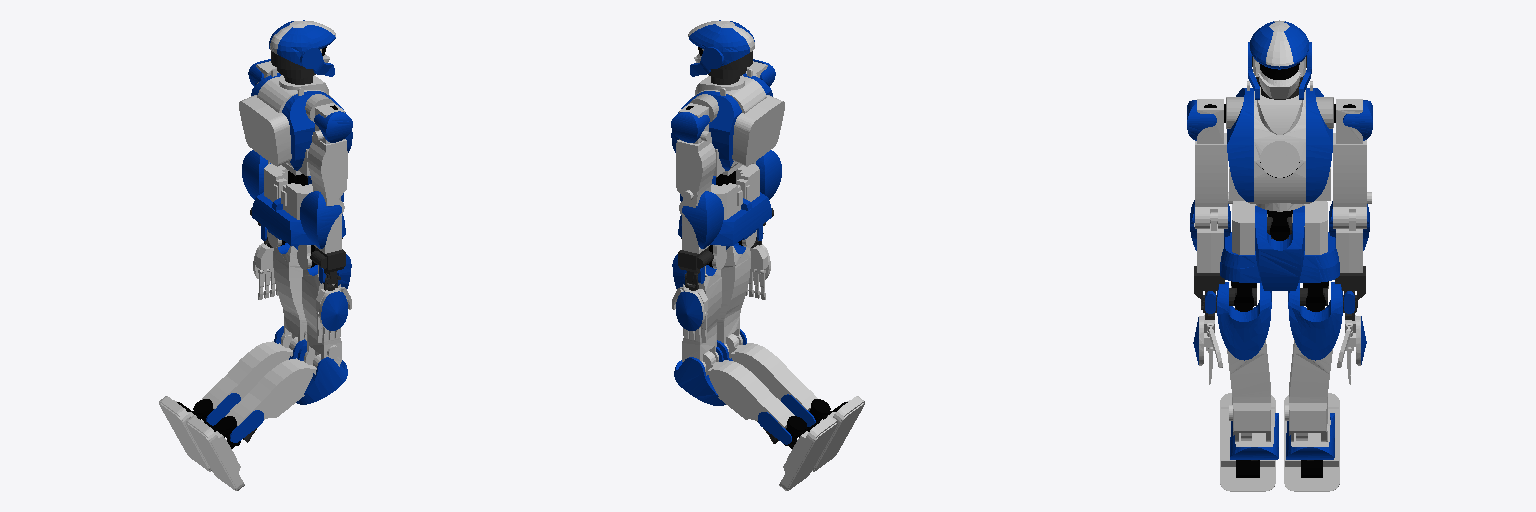
--- What the picture shows (computed from the rendered views, not written in the file) ---
Views: 3 orthographic renders of the robot side by side, from view 1: azimuth 30°, elevation 25°; view 2: azimuth 150°, elevation 25°; view 3: azimuth 270°, elevation 25°.
Robot: hrp4 — 66 links, 65 joints (34 revolute, 31 fixed); root link base_link; default pose: joints at zero except 2 at the middle of their limits (R_KNEE_P = 1.09, L_KNEE_P = 1.09).
Visible links, largest first — view 1: torso, R_KNEE_P_LINK, body, L_KNEE_P_LINK, NECK_P_LINK, L_HIP_P_LINK, R_SHOULDER_Y_LINK, R_HIP_P_LINK, R_ELBOW_P_LINK, r_ankle, l_ankle, R_SHOULDER_R_LINK (+4 smaller); view 2: torso, L_KNEE_P_LINK, body, R_KNEE_P_LINK, NECK_P_LINK, R_HIP_P_LINK, L_SHOULDER_Y_LINK, l_ankle, L_HIP_P_LINK, L_ELBOW_P_LINK, r_ankle, L_SHOULDER_R_LINK (+4 smaller); view 3: torso, body, L_HIP_P_LINK, R_HIP_P_LINK, NECK_P_LINK, L_SHOULDER_Y_LINK, R_SHOULDER_Y_LINK, r_ankle, l_ankle, R_ELBOW_P_LINK, L_ELBOW_P_LINK, R_SHOULDER_R_LINK (+10 smaller).
Boxes of the visible links, x1,y1,x2,y2 form: torso: (239,67,352,175); R_KNEE_P_LINK: (225,343,347,442); body: (252,164,345,245); L_KNEE_P_LINK: (202,326,306,425); NECK_P_LINK: (269,20,335,76); L_HIP_P_LINK: (273,243,306,347); R_SHOULDER_Y_LINK: (307,135,347,216); R_HIP_P_LINK: (302,254,351,366); R_ELBOW_P_LINK: (300,191,341,253); r_ankle: (186,415,244,490); l_ankle: (159,396,211,471); R_SHOULDER_R_LINK: (313,103,352,143); torso: (671,68,784,176); L_KNEE_P_LINK: (674,347,794,444); body: (678,164,771,245); R_KNEE_P_LINK: (717,329,817,426); NECK_P_LINK: (688,20,754,76); R_HIP_P_LINK: (717,243,750,351); L_SHOULDER_Y_LINK: (676,137,715,217); l_ankle: (779,415,837,490); L_HIP_P_LINK: (672,254,721,371); L_ELBOW_P_LINK: (682,191,723,253); r_ankle: (812,396,864,471); L_SHOULDER_R_LINK: (671,103,710,143); torso: (1226,81,1333,211); body: (1220,201,1339,290); L_HIP_P_LINK: (1285,282,1342,441); R_HIP_P_LINK: (1217,282,1271,441); NECK_P_LINK: (1248,20,1311,99); L_SHOULDER_Y_LINK: (1333,133,1371,228); R_SHOULDER_Y_LINK: (1195,133,1232,228); r_ankle: (1220,393,1275,491); l_ankle: (1284,393,1339,491); R_ELBOW_P_LINK: (1190,200,1230,272); L_ELBOW_P_LINK: (1329,201,1369,272); R_SHOULDER_R_LINK: (1187,99,1223,143).
Bounding box of the posed robot: 0.5198 × 0.456 × 1.39 m (x, y, z).
Meshes: 33 distinct files referenced, 54 mesh visuals loaded (33 Collada DAE).

robot.urdf — hrp4:
<?xml version="1.0" ?>
<!-- =================================================================================== -->
<!-- |    This document was autogenerated by xacro from [local-path]/devel-src/catkin_ws/mc_ws/src/hrp4/hrp4_description/urdf/hrp4_small.xacro | -->
<!-- |    EDITING THIS FILE BY HAND IS NOT RECOMMENDED                                 | -->
<!-- =================================================================================== -->
<!--
   hrp4 URDF model

   FIXME: fill missing data: sole, gripper and sensors
  -->
<robot name="hrp4" xmlns:xacro="http://ros.org/wiki/xacro">
  <link name="base_link"/>
  <link name="body">
    <inertial>
      <origin rpy="0 0 0" xyz="-0.0215609 0.00145914 0.14111505"/>
      <mass value="6.93472"/>
      <inertia ixx="0.05776087" ixy="7.331e-05" ixz="0.0014889" iyy="0.0285208" iyz="-0.00075717" izz="0.05527734"/>
    </inertial>
    <visual>
      <origin rpy="0 0 0" xyz="0 0 0"/>
      <geometry>
        <mesh filename="package://hrp4_description/meshes/WAIST_LINK.dae"/>
      </geometry>
    </visual>
    <collision>
      <origin rpy="0 0 0" xyz="0 0 0"/>
      <geometry>
        <mesh filename="package://hrp4_description/meshes/WAIST_LINK.dae"/>
      </geometry>
    </collision>
  </link>
  <link name="R_HIP_Y_LINK">
    <inertial>
      <origin rpy="0 0 0" xyz="-0.01667657 2e-08 0.04993135"/>
      <mass value="1.1356"/>
      <inertia ixx="0.00151524" ixy="-2.8e-07" ixz="-0.00048566" iyy="0.00231285" iyz="-0" izz="0.00149651"/>
    </inertial>
    <visual>
      <origin rpy="0 0 0" xyz="0 0 0"/>
      <geometry>
        <mesh filename="package://hrp4_description/meshes/HIP_Y.dae"/>
      </geometry>
    </visual>
    <collision>
      <origin rpy="0 0 0" xyz="0 0 0"/>
      <geometry>
        <mesh filename="package://hrp4_description/meshes/HIP_Y.dae"/>
      </geometry>
    </collision>
  </link>
  <link name="R_HIP_R_LINK">
    <inertial>
      <origin rpy="0 0 0" xyz="-0.00431692 0.00595121 -0.00052352"/>
      <mass value="0.58494148"/>
      <inertia ixx="0.00046475" ixy="-1.508e-05" ixz="-6.5e-07" iyy="0.00029804" iyz="2.39e-06" izz="0.00061763"/>
    </inertial>
    <visual>
      <origin rpy="0 0 0" xyz="0 0 0"/>
      <geometry>
        <mesh filename="package://hrp4_description/meshes/CHEST_P.dae"/>
      </geometry>
    </visual>
    <collision>
      <origin rpy="0 0 0" xyz="0 0 0"/>
      <geometry>
        <mesh filename="package://hrp4_description/meshes/CHEST_P.dae"/>
      </geometry>
    </collision>
  </link>
  <link name="R_HIP_P_LINK">
    <inertial>
      <origin rpy="0 0 0" xyz="0.00401404 0.01530275 -0.18851723"/>
      <mass value="2.0648"/>
      <inertia ixx="0.03160432" ixy="-3.38e-06" ixz="0.00063965" iyy="0.03070237" iyz="0.00133966" izz="0.00275655"/>
    </inertial>
    <visual>
      <origin rpy="0 0 0" xyz="0 0 0"/>
      <geometry>
        <mesh filename="package://hrp4_description/meshes/R_HIP_P.dae"/>
      </geometry>
    </visual>
    <collision>
      <origin rpy="0 0 0" xyz="0 0 0"/>
      <geometry>
        <mesh filename="package://hrp4_description/meshes/R_HIP_P.dae"/>
      </geometry>
    </collision>
  </link>
  <link name="R_KNEE_P_LINK">
    <inertial>
      <origin rpy="0 0 0" xyz="-0.01122115 -0.00133701 -0.15252868"/>
      <mass value="2.08123"/>
      <inertia ixx="0.01900442" ixy="-4.75e-06" ixz="-0.0014589" iyy="0.01944097" iyz="2.008e-05" izz="0.00189659"/>
    </inertial>
    <visual>
      <origin rpy="0 0 0" xyz="0 0 0"/>
      <geometry>
        <mesh filename="package://hrp4_description/meshes/R_KNEE_P.dae"/>
      </geometry>
    </visual>
    <collision>
      <origin rpy="0 0 0" xyz="0 0 0"/>
      <geometry>
        <mesh filename="package://hrp4_description/meshes/R_KNEE_P.dae"/>
      </geometry>
    </collision>
  </link>
  <link name="R_ANKLE_P_LINK">
    <inertial>
      <origin rpy="0 0 0" xyz="-0.00368911 -0.00015844 0.00129883"/>
      <mass value="0.26784726"/>
      <inertia ixx="8.094e-05" ixy="-1.6e-07" ixz="-1.33e-06" iyy="0.00015522" iyz="-7e-08" izz="0.00017313"/>
    </inertial>
    <visual>
      <origin rpy="0 0 0" xyz="0 0 0"/>
      <geometry>
        <mesh filename="package://hrp4_description/meshes/L_ANKLE_P.dae"/>
      </geometry>
    </visual>
    <collision>
      <origin rpy="0 0 0" xyz="0 0 0"/>
      <geometry>
        <mesh filename="package://hrp4_description/meshes/L_ANKLE_P.dae"/>
      </geometry>
    </collision>
  </link>
  <link name="R_ANKLE_R_LINK">
    <inertial>
      <origin rpy="0 0 0" xyz="-0.00340792 1e-08 -0.04591586"/>
      <mass value="0.72287828"/>
      <inertia ixx="0.00092215" ixy="0" ixz="0.00011963" iyy="0.00102289" iyz="0" izz="0.00089314"/>
    </inertial>
    <visual>
      <origin rpy="0 0 0" xyz="0 0 0"/>
      <geometry>
        <mesh filename="package://hrp4_description/meshes/R_ANKLE_R.dae"/>
      </geometry>
    </visual>
    <collision>
      <origin rpy="0 0 0" xyz="0 0 0"/>
      <geometry>
        <mesh filename="package://hrp4_description/meshes/R_ANKLE_R.dae"/>
      </geometry>
    </collision>
  </link>
  <link name="r_sole"/>
  <link name="L_HIP_Y_LINK">
    <inertial>
      <origin rpy="0 0 0" xyz="-0.01667657 2e-08 0.04993135"/>
      <mass value="1.1356"/>
      <inertia ixx="0.00151524" ixy="-2.8e-07" ixz="-0.00048566" iyy="0.00231285" iyz="-0" izz="0.00149651"/>
    </inertial>
    <visual>
      <origin rpy="0 0 0" xyz="0 0 0"/>
      <geometry>
        <mesh filename="package://hrp4_description/meshes/HIP_Y.dae"/>
      </geometry>
    </visual>
    <collision>
      <origin rpy="0 0 0" xyz="0 0 0"/>
      <geometry>
        <mesh filename="package://hrp4_description/meshes/HIP_Y.dae"/>
      </geometry>
    </collision>
  </link>
  <link name="L_HIP_R_LINK">
    <inertial>
      <origin rpy="0 0 0" xyz="-0.00431692 0.00595121 -0.00052352"/>
      <mass value="0.58494148"/>
      <inertia ixx="0.00046475" ixy="-1.508e-05" ixz="-6.5e-07" iyy="0.00029804" iyz="2.39e-06" izz="0.00061763"/>
    </inertial>
    <visual>
      <origin rpy="0 0 0" xyz="0 0 0"/>
      <geometry>
        <mesh filename="package://hrp4_description/meshes/CHEST_P.dae"/>
      </geometry>
    </visual>
    <collision>
      <origin rpy="0 0 0" xyz="0 0 0"/>
      <geometry>
        <mesh filename="package://hrp4_description/meshes/CHEST_P.dae"/>
      </geometry>
    </collision>
  </link>
  <link name="L_HIP_P_LINK">
    <inertial>
      <origin rpy="0 0 0" xyz="0.00400906 -0.00541624 -0.18827632"/>
      <mass value="2.06366"/>
      <inertia ixx="0.03174381" ixy="9.784e-05" ixz="0.00063909" iyy="0.03068623" iyz="-0.00254187" izz="0.00291548"/>
    </inertial>
    <visual>
      <origin rpy="0 0 0" xyz="0 0 0"/>
      <geometry>
        <mesh filename="package://hrp4_description/meshes/L_HIP_P.dae"/>
      </geometry>
    </visual>
    <collision>
      <origin rpy="0 0 0" xyz="0 0 0"/>
      <geometry>
        <mesh filename="package://hrp4_description/meshes/L_HIP_P.dae"/>
      </geometry>
    </collision>
  </link>
  <link name="L_KNEE_P_LINK">
    <inertial>
      <origin rpy="0 0 0" xyz="-0.01122115 -0.00133701 -0.15252868"/>
      <mass value="2.08123"/>
      <inertia ixx="0.01900442" ixy="-4.75e-06" ixz="-0.0014589" iyy="0.01944097" iyz="2.008e-05" izz="0.00189659"/>
    </inertial>
    <visual>
      <origin rpy="0 0 0" xyz="0 0 0"/>
      <geometry>
        <mesh filename="package://hrp4_description/meshes/L_KNEE_P.dae"/>
      </geometry>
    </visual>
    <collision>
      <origin rpy="0 0 0" xyz="0 0 0"/>
      <geometry>
        <mesh filename="package://hrp4_description/meshes/L_KNEE_P.dae"/>
      </geometry>
    </collision>
  </link>
  <link name="L_ANKLE_P_LINK">
    <inertial>
      <origin rpy="0 0 0" xyz="-0.00368911 -0.00015844 0.00129883"/>
      <mass value="0.26784726"/>
      <inertia ixx="8.094e-05" ixy="-1.6e-07" ixz="-1.33e-06" iyy="0.00015522" iyz="-7e-08" izz="0.00017313"/>
    </inertial>
    <visual>
      <origin rpy="0 0 0" xyz="0 0 0"/>
      <geometry>
        <mesh filename="package://hrp4_description/meshes/L_ANKLE_P.dae"/>
      </geometry>
    </visual>
    <collision>
      <origin rpy="0 0 0" xyz="0 0 0"/>
      <geometry>
        <mesh filename="package://hrp4_description/meshes/L_ANKLE_P.dae"/>
      </geometry>
    </collision>
  </link>
  <link name="L_ANKLE_R_LINK">
    <inertial>
      <origin rpy="0 0 0" xyz="-0.00340792 0 -0.04591586"/>
      <mass value="0.72287828"/>
      <inertia ixx="0.00092215" ixy="-0" ixz="0.00011963" iyy="0.00102289" iyz="-0" izz="0.00089314"/>
    </inertial>
    <visual>
      <origin rpy="0 0 0" xyz="0 0 0"/>
      <geometry>
        <mesh filename="package://hrp4_description/meshes/L_ANKLE_R.dae"/>
      </geometry>
    </visual>
    <collision>
      <origin rpy="0 0 0" xyz="0 0 0"/>
      <geometry>
        <mesh filename="package://hrp4_description/meshes/L_ANKLE_R.dae"/>
      </geometry>
    </collision>
  </link>
  <link name="l_sole"/>
  <link name="CHEST_P_LINK">
    <inertial>
      <origin rpy="0 0 0" xyz="-0.00442006 0.00280574 0.03664874"/>
      <mass value="1.24072"/>
      <inertia ixx="0.00250228" ixy="-1.572e-05" ixz="-1.986e-05" iyy="0.00266086" iyz="0.00013179" izz="0.0015461"/>
    </inertial>
    <visual>
      <origin rpy="0 0 0" xyz="0 0 0"/>
      <geometry>
        <mesh filename="package://hrp4_description/meshes/CHEST_P.dae"/>
      </geometry>
    </visual>
    <visual>
      <origin rpy="0 0 0" xyz="0 0 0"/>
      <geometry>
        <mesh filename="package://hrp4_description/meshes/CHEST_R.dae"/>
      </geometry>
    </visual>
    <collision>
      <origin rpy="0 0 0" xyz="0 0 0"/>
      <geometry>
        <mesh filename="package://hrp4_description/meshes/CHEST_P.dae"/>
      </geometry>
    </collision>
    <collision>
      <origin rpy="0 0 0" xyz="0 0 0"/>
      <geometry>
        <mesh filename="package://hrp4_description/meshes/CHEST_P.dae"/>
      </geometry>
    </collision>
  </link>
  <link name="torso">
    <inertial>
      <origin rpy="0 0 0" xyz="-0.02868847 -0.00245957 0.20400698"/>
      <mass value="6.67348"/>
      <inertia ixx="0.06656275" ixy="-9.681e-05" ixz="0.00599103" iyy="0.05508979" iyz="-0.00017557" izz="0.04262738"/>
    </inertial>
    <visual>
      <origin rpy="0 0 0" xyz="0 0 0"/>
      <geometry>
        <mesh filename="package://hrp4_description/meshes/CHEST_Y.dae"/>
      </geometry>
    </visual>
    <collision>
      <origin rpy="0 0 0" xyz="0 0 0"/>
      <geometry>
        <mesh filename="package://hrp4_description/meshes/CHEST_Y.dae"/>
      </geometry>
    </collision>
  </link>
  <link name="NECK_Y_LINK">
    <inertial>
      <origin rpy="0 0 0" xyz="-0.01142441 0.00157484 -0.02134892"/>
      <mass value="0.41214752"/>
      <inertia ixx="0.00061014" ixy="4.35e-06" ixz="7.329e-05" iyy="0.00068918" iyz="-1.384e-05" izz="0.00040587"/>
    </inertial>
    <visual>
      <origin rpy="0 0 0" xyz="0 0 0"/>
      <geometry>
        <mesh filename="package://hrp4_description/meshes/NECK_Y.dae"/>
      </geometry>
    </visual>
    <collision>
      <origin rpy="0 0 0" xyz="0 0 0"/>
      <geometry>
        <mesh filename="package://hrp4_description/meshes/NECK_Y.dae"/>
      </geometry>
    </collision>
  </link>
  <link name="NECK_P_LINK">
    <inertial>
      <origin rpy="0 0 0" xyz="0.00532833 -0.00053047 0.0176936"/>
      <mass value="0.22297511"/>
      <inertia ixx="0.00069884" ixy="-7e-07" ixz="3.33e-05" iyy="0.00093286" iyz="-1.51e-06" izz="0.00100342"/>
    </inertial>
    <visual>
      <origin rpy="0 0 0" xyz="0 0 0"/>
      <geometry>
        <mesh filename="package://hrp4_description/meshes/NECK_P.dae"/>
      </geometry>
    </visual>
    <collision>
      <origin rpy="0 0 0" xyz="0 0 0"/>
      <geometry>
        <mesh filename="package://hrp4_description/meshes/NECK_P.dae"/>
      </geometry>
    </collision>
  </link>
  <link name="R_SHOULDER_P_LINK">
    <inertial>
      <origin rpy="0 0 0" xyz="0.00141599 0.04257567 0.00031503"/>
      <mass value="0.42049079"/>
      <inertia ixx="0.00044203" ixy="-4.93e-06" ixz="-6.1e-07" iyy="0.00014181" iyz="-3.34e-06" izz="0.00044502"/>
    </inertial>
    <visual>
      <origin rpy="0 0 0" xyz="0 0 0"/>
      <geometry>
        <mesh filename="package://hrp4_description/meshes/R_SHOULDER_P.dae"/>
      </geometry>
    </visual>
    <collision>
      <origin rpy="0 0 0" xyz="0 0 0"/>
      <geometry>
        <mesh filename="package://hrp4_description/meshes/R_SHOULDER_P.dae"/>
      </geometry>
    </collision>
  </link>
  <link name="R_SHOULDER_R_LINK">
    <inertial>
      <origin rpy="0 0 0" xyz="0.00019752 -0.00272557 -0.04191141"/>
      <mass value="0.52070922"/>
      <inertia ixx="0.00062647" ixy="-7.3e-06" ixz="-6.476e-05" iyy="0.00071812" iyz="1.818e-05" izz="0.00029856"/>
    </inertial>
    <visual>
      <origin rpy="0 0 0" xyz="0 0 0"/>
      <geometry>
        <mesh filename="package://hrp4_description/meshes/R_SHOULDER_R.dae"/>
      </geometry>
    </visual>
    <collision>
      <origin rpy="0 0 0" xyz="0 0 0"/>
      <geometry>
        <mesh filename="package://hrp4_description/meshes/R_SHOULDER_R.dae"/>
      </geometry>
    </collision>
  </link>
  <link name="R_SHOULDER_Y_LINK">
    <inertial>
      <origin rpy="0 0 0" xyz="-0.00273859 -0.00036268 -0.17426645"/>
      <mass value="1.0874"/>
      <inertia ixx="0.00553694" ixy="1.18e-05" ixz="-4.295e-05" iyy="0.00556222" iyz="-9.379e-05" izz="0.00071841"/>
    </inertial>
    <visual>
      <origin rpy="0 0 0" xyz="0 0 0"/>
      <geometry>
        <mesh filename="package://hrp4_description/meshes/SHOULDER_Y.dae"/>
      </geometry>
    </visual>
    <collision>
      <origin rpy="0 0 0" xyz="0 0 0"/>
      <geometry>
        <mesh filename="package://hrp4_description/meshes/SHOULDER_Y.dae"/>
      </geometry>
    </collision>
  </link>
  <link name="R_ELBOW_P_LINK">
    <inertial>
      <origin rpy="0 0 0" xyz="-0.01222096 0.00049299 -0.07271909"/>
      <mass value="0.6594031"/>
      <inertia ixx="0.00121955" ixy="3.9e-06" ixz="4.22e-05" iyy="0.00135563" iyz="-1.497e-05" izz="0.00047041"/>
    </inertial>
    <visual>
      <origin rpy="0 0 0" xyz="0 0 0"/>
      <geometry>
        <mesh filename="package://hrp4_description/meshes/ELBOW_P.dae"/>
      </geometry>
    </visual>
    <collision>
      <origin rpy="0 0 0" xyz="0 0 0"/>
      <geometry>
        <mesh filename="package://hrp4_description/meshes/ELBOW_P.dae"/>
      </geometry>
    </collision>
  </link>
  <link name="R_WRIST_Y_LINK">
    <inertial>
      <origin rpy="0 0 0" xyz="-0.00749481 9.419e-05 -0.17044123"/>
      <mass value="0.38384092"/>
      <inertia ixx="0.00027044" ixy="-9.74e-06" ixz="1.069e-05" iyy="0.00027334" iyz="1.745e-05" izz="0.00022347"/>
    </inertial>
    <visual>
      <origin rpy="0 0 0" xyz="0 0 0"/>
      <geometry>
        <mesh filename="package://hrp4_description/meshes/R_WRIST_Y.dae"/>
      </geometry>
    </visual>
    <collision>
      <origin rpy="0 0 0" xyz="0 0 0"/>
      <geometry>
        <mesh filename="package://hrp4_description/meshes/R_WRIST_Y.dae"/>
      </geometry>
    </collision>
  </link>
  <link name="R_WRIST_P_LINK">
    <inertial>
      <origin rpy="0 0 0" xyz="0.00255098 0.00162183 0.01074678"/>
      <mass value="0.25425855"/>
      <inertia ixx="8.763e-05" ixy="1.53e-06" ixz="-3.48e-06" iyy="9.159e-05" iyz="4.48e-06" izz="5.571e-05"/>
    </inertial>
    <visual>
      <origin rpy="0 0 0" xyz="0 0 0"/>
      <geometry>
        <mesh filename="package://hrp4_description/meshes/WRIST_P.dae"/>
      </geometry>
    </visual>
    <collision>
      <origin rpy="0 0 0" xyz="0 0 0"/>
      <geometry>
        <mesh filename="package://hrp4_description/meshes/WRIST_P.dae"/>
      </geometry>
    </collision>
  </link>
  <link name="r_wrist">
    <inertial>
      <origin rpy="0 0 0" xyz="-0.00357307 -0.00756083 -0.07562434"/>
      <mass value="0.38811052"/>
      <inertia ixx="0.00041744" ixy="-2.58e-06" ixz="-3.079e-05" iyy="0.00053272" iyz="-4.178e-05" izz="0.00022506"/>
    </inertial>
    <visual>
      <origin rpy="0 0 0" xyz="0 0 0"/>
      <geometry>
        <mesh filename="package://hrp4_description/meshes/R_WRIST_R.dae"/>
      </geometry>
    </visual>
    <collision>
      <origin rpy="0 0 0" xyz="0 0 0"/>
      <geometry>
        <mesh filename="package://hrp4_description/meshes/R_WRIST_R.dae"/>
      </geometry>
    </collision>
  </link>
  <link name="R_HAND_J0_LINK">
    <inertial>
      <origin rpy="0 0 0" xyz="0.03905018 0.0103447 -0.02583122"/>
      <mass value="0.02982352"/>
      <inertia ixx="1.307e-05" ixy="-6.2e-06" ixz="1.249e-05" iyy="2.885e-05" iyz="4.36e-06" izz="2.119e-05"/>
    </inertial>
    <visual>
      <origin rpy="0 0 0" xyz="0 0 0"/>
      <geometry>
        <mesh filename="package://hrp4_description/meshes/R_THUMB.dae"/>
      </geometry>
    </visual>
    <collision>
      <origin rpy="0 0 0" xyz="0 0 0"/>
      <geometry>
        <mesh filename="package://hrp4_description/meshes/R_THUMB.dae"/>
      </geometry>
    </collision>
  </link>
  <link name="R_HAND_J1_LINK">
    <inertial>
      <origin rpy="0 0 0" xyz="-0.00520681 -8.854e-05 -0.01902284"/>
      <mass value="0.07696483"/>
      <inertia ixx="2.17e-05" ixy="-3e-08" ixz="-2.2e-07" iyy="5.741e-05" iyz="1e-07" izz="3.728e-05"/>
    </inertial>
    <visual>
      <origin rpy="0 0 0" xyz="0 0 0"/>
      <geometry>
        <mesh filename="package://hrp4_description/meshes/R_F1.dae"/>
      </geometry>
    </visual>
    <collision>
      <origin rpy="0 0 0" xyz="0 0 0"/>
      <geometry>
        <mesh filename="package://hrp4_description/meshes/R_F1.dae"/>
      </geometry>
    </collision>
  </link>
  <link name="R_F22_LINK">
    <inertial>
      <origin rpy="0 0 0" xyz="-0.00031853 0.00034526 -0.01168186"/>
      <mass value="0.00446884"/>
      <inertia ixx="3.2e-07" ixy="-0" ixz="-0" iyy="3.4e-07" iyz="-0" izz="9e-08"/>
    </inertial>
    <visual>
      <origin rpy="0 0 0" xyz="0 0 0"/>
      <geometry>
        <mesh filename="package://hrp4_description/meshes/F2.dae"/>
      </geometry>
    </visual>
    <collision>
      <origin rpy="0 0 0" xyz="0 0 0"/>
      <geometry>
        <mesh filename="package://hrp4_description/meshes/F2.dae"/>
      </geometry>
    </collision>
  </link>
  <link name="R_F23_LINK">
    <inertial>
      <origin rpy="0 0 0" xyz="-0.00035576 -0.00103228 -0.00714888"/>
      <mass value="0.0028745"/>
      <inertia ixx="1.6e-07" ixy="0" ixz="1e-08" iyy="2.1e-07" iyz="-2e-08" izz="7e-08"/>
    </inertial>
    <visual>
      <origin rpy="0 0 0" xyz="0 0 0"/>
      <geometry>
        <mesh filename="package://hrp4_description/meshes/F3.dae"/>
      </geometry>
    </visual>
    <collision>
      <origin rpy="0 0 0" xyz="0 0 0"/>
      <geometry>
        <mesh filename="package://hrp4_description/meshes/F3.dae"/>
      </geometry>
    </collision>
  </link>
  <link name="R_F32_LINK">
    <inertial>
      <origin rpy="0 0 0" xyz="-0.00031853 0.00034526 -0.01168186"/>
      <mass value="0.00446884"/>
      <inertia ixx="3.2e-07" ixy="-0" ixz="-0" iyy="3.4e-07" iyz="-0" izz="9e-08"/>
    </inertial>
    <visual>
      <origin rpy="0 0 0" xyz="0 0 0"/>
      <geometry>
        <mesh filename="package://hrp4_description/meshes/F2.dae"/>
      </geometry>
    </visual>
    <collision>
      <origin rpy="0 0 0" xyz="0 0 0"/>
      <geometry>
        <mesh filename="package://hrp4_description/meshes/F2.dae"/>
      </geometry>
    </collision>
  </link>
  <link name="R_F33_LINK">
    <inertial>
      <origin rpy="0 0 0" xyz="-0.00035576 -0.00103228 -0.00714888"/>
      <mass value="0.0028745"/>
      <inertia ixx="1.6e-07" ixy="0" ixz="1e-08" iyy="2.1e-07" iyz="-2e-08" izz="7e-08"/>
    </inertial>
    <visual>
      <origin rpy="0 0 0" xyz="0 0 0"/>
      <geometry>
        <mesh filename="package://hrp4_description/meshes/F3.dae"/>
      </geometry>
    </visual>
    <collision>
      <origin rpy="0 0 0" xyz="0 0 0"/>
      <geometry>
        <mesh filename="package://hrp4_description/meshes/F3.dae"/>
      </geometry>
    </collision>
  </link>
  <link name="R_F42_LINK">
    <inertial>
      <origin rpy="0 0 0" xyz="-0.00031853 0.00034526 -0.01168186"/>
      <mass value="0.00446884"/>
      <inertia ixx="3.2e-07" ixy="-0" ixz="-0" iyy="3.4e-07" iyz="-0" izz="9e-08"/>
    </inertial>
    <visual>
      <origin rpy="0 0 0" xyz="0 0 0"/>
      <geometry>
        <mesh filename="package://hrp4_description/meshes/F2.dae"/>
      </geometry>
    </visual>
    <collision>
      <origin rpy="0 0 0" xyz="0 0 0"/>
      <geometry>
        <mesh filename="package://hrp4_description/meshes/F2.dae"/>
      </geometry>
    </collision>
  </link>
  <link name="R_F43_LINK">
    <inertial>
      <origin rpy="0 0 0" xyz="-0.00035576 -0.00103228 -0.00714888"/>
      <mass value="0.0028745"/>
      <inertia ixx="1.6e-07" ixy="0" ixz="1e-08" iyy="2.1e-07" iyz="-2e-08" izz="7e-08"/>
    </inertial>
    <visual>
      <origin rpy="0 0 0" xyz="0 0 0"/>
      <geometry>
        <mesh filename="package://hrp4_description/meshes/F3.dae"/>
      </geometry>
    </visual>
    <collision>
      <origin rpy="0 0 0" xyz="0 0 0"/>
      <geometry>
        <mesh filename="package://hrp4_description/meshes/F3.dae"/>
      </geometry>
    </collision>
  </link>
  <link name="R_F52_LINK">
    <inertial>
      <origin rpy="0 0 0" xyz="-0.00031853 0.00034526 -0.01168186"/>
      <mass value="0.00446884"/>
      <inertia ixx="3.2e-07" ixy="-0" ixz="-0" iyy="3.4e-07" iyz="-0" izz="9e-08"/>
    </inertial>
    <visual>
      <origin rpy="0 0 0" xyz="0 0 0"/>
      <geometry>
        <mesh filename="package://hrp4_description/meshes/F2.dae"/>
      </geometry>
    </visual>
    <collision>
      <origin rpy="0 0 0" xyz="0 0 0"/>
      <geometry>
        <mesh filename="package://hrp4_description/meshes/F2.dae"/>
      </geometry>
    </collision>
  </link>
  <link name="R_F53_LINK">
    <inertial>
      <origin rpy="0 0 0" xyz="-0.00035576 -0.00103228 -0.00714888"/>
      <mass value="0.0028745"/>
      <inertia ixx="1.6e-07" ixy="0" ixz="1e-08" iyy="2.1e-07" iyz="-2e-08" izz="7e-08"/>
    </inertial>
    <visual>
      <origin rpy="0 0 0" xyz="0 0 0"/>
      <geometry>
        <mesh filename="package://hrp4_description/meshes/F3.dae"/>
      </geometry>
    </visual>
    <collision>
      <origin rpy="0 0 0" xyz="0 0 0"/>
      <geometry>
        <mesh filename="package://hrp4_description/meshes/F3.dae"/>
      </geometry>
    </collision>
  </link>
  <link name="L_SHOULDER_P_LINK">
    <inertial>
      <origin rpy="0 0 0" xyz="0.00141599 -0.04257567 -0.00031503"/>
      <mass value="0.42049079"/>
      <inertia ixx="0.00044203" ixy="4.93e-06" ixz="6.1e-07" iyy="0.00014181" iyz="-3.34e-06" izz="0.00044502"/>
    </inertial>
    <visual>
      <origin rpy="0 0 0" xyz="0 0 0"/>
      <geometry>
        <mesh filename="package://hrp4_description/meshes/L_SHOULDER_P.dae"/>
      </geometry>
    </visual>
    <collision>
      <origin rpy="0 0 0" xyz="0 0 0"/>
      <geometry>
        <mesh filename="package://hrp4_description/meshes/L_SHOULDER_P.dae"/>
      </geometry>
    </collision>
  </link>
  <link name="L_SHOULDER_R_LINK">
    <inertial>
      <origin rpy="0 0 0" xyz="0.00019752 -8.916e-05 -0.04191141"/>
      <mass value="0.52070922"/>
      <inertia ixx="0.00063033" ixy="-6.01e-06" ixz="-6.476e-05" iyy="0.00071812" iyz="-2.895e-05" izz="0.00030242"/>
    </inertial>
    <visual>
      <origin rpy="0 0 0" xyz="0 0 0"/>
      <geometry>
        <mesh filename="package://hrp4_description/meshes/L_SHOULDER_R.dae"/>
      </geometry>
    </visual>
    <collision>
      <origin rpy="0 0 0" xyz="0 0 0"/>
      <geometry>
        <mesh filename="package://hrp4_description/meshes/L_SHOULDER_R.dae"/>
      </geometry>
    </collision>
  </link>
  <link name="L_SHOULDER_Y_LINK">
    <inertial>
      <origin rpy="0 0 0" xyz="-0.00273859 -0.00036268 -0.17426645"/>
      <mass value="1.0874"/>
      <inertia ixx="0.00553694" ixy="1.18e-05" ixz="-4.295e-05" iyy="0.00556222" iyz="-9.379e-05" izz="0.00071841"/>
    </inertial>
    <visual>
      <origin rpy="0 0 0" xyz="0 0 0"/>
      <geometry>
        <mesh filename="package://hrp4_description/meshes/SHOULDER_Y.dae"/>
      </geometry>
    </visual>
    <collision>
      <origin rpy="0 0 0" xyz="0 0 0"/>
      <geometry>
        <mesh filename="package://hrp4_description/meshes/SHOULDER_Y.dae"/>
      </geometry>
    </collision>
  </link>
  <link name="L_ELBOW_P_LINK">
    <inertial>
      <origin rpy="0 0 0" xyz="-0.01222096 0.00049299 -0.07271909"/>
      <mass value="0.6594031"/>
      <inertia ixx="0.00121955" ixy="3.9e-06" ixz="4.22e-05" iyy="0.00135563" iyz="-1.497e-05" izz="0.00047041"/>
    </inertial>
    <visual>
      <origin rpy="0 0 0" xyz="0 0 0"/>
      <geometry>
        <mesh filename="package://hrp4_description/meshes/ELBOW_P.dae"/>
      </geometry>
    </visual>
    <collision>
      <origin rpy="0 0 0" xyz="0 0 0"/>
      <geometry>
        <mesh filename="package://hrp4_description/meshes/ELBOW_P.dae"/>
      </geometry>
    </collision>
  </link>
  <link name="L_WRIST_Y_LINK">
    <inertial>
      <origin rpy="0 0 0" xyz="-0.00749574 -9.418e-05 -0.17044123"/>
      <mass value="0.38384092"/>
      <inertia ixx="0.00027044" ixy="9.76e-06" ixz="1.07e-05" iyy="0.00027334" iyz="-1.745e-05" izz="0.00022346"/>
    </inertial>
    <visual>
      <origin rpy="0 0 0" xyz="0 0 0"/>
      <geometry>
        <mesh filename="package://hrp4_description/meshes/L_WRIST_Y.dae"/>
      </geometry>
    </visual>
    <collision>
      <origin rpy="0 0 0" xyz="0 0 0"/>
      <geometry>
        <mesh filename="package://hrp4_description/meshes/L_WRIST_Y.dae"/>
      </geometry>
    </collision>
  </link>
  <link name="L_WRIST_P_LINK">
    <inertial>
      <origin rpy="0 0 0" xyz="-0.00255098 -0.00162183 0.01074678"/>
      <mass value="0.25425855"/>
      <inertia ixx="8.763e-05" ixy="1.53e-06" ixz="3.48e-06" iyy="9.159e-05" iyz="-4.48e-06" izz="5.571e-05"/>
    </inertial>
    <visual>
      <origin rpy="0 0 0" xyz="0 0 0"/>
      <geometry>
        <mesh filename="package://hrp4_description/meshes/WRIST_P.dae"/>
      </geometry>
    </visual>
    <collision>
      <origin rpy="0 0 0" xyz="0 0 0"/>
      <geometry>
        <mesh filename="package://hrp4_description/meshes/WRIST_P.dae"/>
      </geometry>
    </collision>
  </link>
  <link name="l_wrist">
    <inertial>
      <origin rpy="0 0 0" xyz="-0.00241915 0.00756006 -0.07562466"/>
      <mass value="0.38811052"/>
      <inertia ixx="0.00041745" ixy="4.71e-06" ixz="-6.41e-05" iyy="0.00053559" iyz="4.177e-05" izz="0.00022792"/>
    </inertial>
    <visual>
      <origin rpy="0 0 0" xyz="0 0 0"/>
      <geometry>
        <mesh filename="package://hrp4_description/meshes/L_WRIST_R.dae"/>
      </geometry>
    </visual>
    <collision>
      <origin rpy="0 0 0" xyz="0 0 0"/>
      <geometry>
        <mesh filename="package://hrp4_description/meshes/L_WRIST_R.dae"/>
      </geometry>
    </collision>
  </link>
  <link name="L_HAND_J0_LINK">
    <inertial>
      <origin rpy="0 0 0" xyz="0.03905018 -0.0103447 -0.02583122"/>
      <mass value="0.02982352"/>
      <inertia ixx="1.307e-05" ixy="6.2e-06" ixz="1.249e-05" iyy="2.885e-05" iyz="-4.36e-06" izz="2.119e-05"/>
    </inertial>
    <visual>
      <origin rpy="0 0 0" xyz="0 0 0"/>
      <geometry>
        <mesh filename="package://hrp4_description/meshes/L_THUMB.dae"/>
      </geometry>
    </visual>
    <collision>
      <origin rpy="0 0 0" xyz="0 0 0"/>
      <geometry>
        <mesh filename="package://hrp4_description/meshes/L_THUMB.dae"/>
      </geometry>
    </collision>
  </link>
  <link name="L_HAND_J1_LINK">
    <inertial>
      <origin rpy="0 0 0" xyz="-0.00479332 8.854e-05 -0.01902284"/>
      <mass value="0.07696483"/>
      <inertia ixx="2.17e-05" ixy="-3e-08" ixz="2.3e-07" iyy="5.741e-05" iyz="-1e-07" izz="3.728e-05"/>
    </inertial>
    <visual>
      <origin rpy="0 0 0" xyz="0 0 0"/>
      <geometry>
        <mesh filename="package://hrp4_description/meshes/L_F1.dae"/>
      </geometry>
    </visual>
    <collision>
      <origin rpy="0 0 0" xyz="0 0 0"/>
      <geometry>
        <mesh filename="package://hrp4_description/meshes/L_F1.dae"/>
      </geometry>
    </collision>
  </link>
  <link name="L_F22_LINK">
    <inertial>
      <origin rpy="0 0 0" xyz="0.00031853 -0.00034526 -0.01168186"/>
      <mass value="0.00446884"/>
      <inertia ixx="3.2e-07" ixy="-0" ixz="0" iyy="3.4e-07" iyz="0" izz="9e-08"/>
    </inertial>
    <visual>
      <origin rpy="0 0 0" xyz="0 0 0"/>
      <geometry>
        <mesh filename="package://hrp4_description/meshes/F2.dae"/>
      </geometry>
    </visual>
    <collision>
      <origin rpy="0 0 0" xyz="0 0 0"/>
      <geometry>
        <mesh filename="package://hrp4_description/meshes/F2.dae"/>
      </geometry>
    </collision>
  </link>
  <link name="L_F23_LINK">
    <inertial>
      <origin rpy="0 0 0" xyz="0.00035576 0.00103228 -0.00714888"/>
      <mass value="0.0028745"/>
      <inertia ixx="1.6e-07" ixy="0" ixz="-1e-08" iyy="2.1e-07" iyz="2e-08" izz="7e-08"/>
    </inertial>
    <visual>
      <origin rpy="0 0 0" xyz="0 0 0"/>
      <geometry>
        <mesh filename="package://hrp4_description/meshes/F3.dae"/>
      </geometry>
    </visual>
    <collision>
      <origin rpy="0 0 0" xyz="0 0 0"/>
      <geometry>
        <mesh filename="package://hrp4_description/meshes/F3.dae"/>
      </geometry>
    </collision>
  </link>
  <link name="L_F32_LINK">
    <inertial>
      <origin rpy="0 0 0" xyz="0.00031853 -0.00034526 -0.01168186"/>
      <mass value="0.00446884"/>
      <inertia ixx="3.2e-07" ixy="-0" ixz="0" iyy="3.4e-07" iyz="0" izz="9e-08"/>
    </inertial>
    <visual>
      <origin rpy="0 0 0" xyz="0 0 0"/>
      <geometry>
        <mesh filename="package://hrp4_description/meshes/F2.dae"/>
      </geometry>
    </visual>
    <collision>
      <origin rpy="0 0 0" xyz="0 0 0"/>
      <geometry>
        <mesh filename="package://hrp4_description/meshes/F2.dae"/>
      </geometry>
    </collision>
  </link>
  <link name="L_F33_LINK">
    <inertial>
      <origin rpy="0 0 0" xyz="0.00035576 0.00103228 -0.00714888"/>
      <mass value="0.0028745"/>
      <inertia ixx="1.6e-07" ixy="0" ixz="-1e-08" iyy="2.1e-07" iyz="2e-08" izz="7e-08"/>
    </inertial>
    <visual>
      <origin rpy="0 0 0" xyz="0 0 0"/>
      <geometry>
        <mesh filename="package://hrp4_description/meshes/F3.dae"/>
      </geometry>
    </visual>
    <collision>
      <origin rpy="0 0 0" xyz="0 0 0"/>
      <geometry>
        <mesh filename="package://hrp4_description/meshes/F3.dae"/>
      </geometry>
    </collision>
  </link>
  <link name="L_F42_LINK">
    <inertial>
      <origin rpy="0 0 0" xyz="0.00031853 -0.00034526 -0.01168186"/>
      <mass value="0.00446884"/>
      <inertia ixx="3.2e-07" ixy="-0" ixz="0" iyy="3.4e-07" iyz="0" izz="9e-08"/>
    </inertial>
    <visual>
      <origin rpy="0 0 0" xyz="0 0 0"/>
      <geometry>
        <mesh filename="package://hrp4_description/meshes/F2.dae"/>
      </geometry>
    </visual>
    <collision>
      <origin rpy="0 0 0" xyz="0 0 0"/>
      <geometry>
        <mesh filename="package://hrp4_description/meshes/F2.dae"/>
      </geometry>
    </collision>
  </link>
  <link name="L_F43_LINK">
    <inertial>
      <origin rpy="0 0 0" xyz="0.00035576 0.00103228 -0.00714888"/>
      <mass value="0.0028745"/>
      <inertia ixx="1.6e-07" ixy="0" ixz="-1e-08" iyy="2.1e-07" iyz="2e-08" izz="7e-08"/>
    </inertial>
    <visual>
      <origin rpy="0 0 0" xyz="0 0 0"/>
      <geometry>
        <mesh filename="package://hrp4_description/meshes/F3.dae"/>
      </geometry>
    </visual>
    <collision>
      <origin rpy="0 0 0" xyz="0 0 0"/>
      <geometry>
        <mesh filename="package://hrp4_description/meshes/F3.dae"/>
      </geometry>
    </collision>
  </link>
  <link name="L_F52_LINK">
    <inertial>
      <origin rpy="0 0 0" xyz="0.00031853 -0.00034526 -0.01168186"/>
      <mass value="0.00446884"/>
      <inertia ixx="3.2e-07" ixy="-0" ixz="0" iyy="3.4e-07" iyz="0" izz="9e-08"/>
    </inertial>
    <visual>
      <origin rpy="0 0 0" xyz="0 0 0"/>
      <geometry>
        <mesh filename="package://hrp4_description/meshes/F2.dae"/>
      </geometry>
    </visual>
    <collision>
      <origin rpy="0 0 0" xyz="0 0 0"/>
      <geometry>
        <mesh filename="package://hrp4_description/meshes/F2.dae"/>
      </geometry>
    </collision>
  </link>
  <link name="L_F53_LINK">
    <inertial>
      <origin rpy="0 0 0" xyz="0.00035576 0.00103228 -0.00714888"/>
      <mass value="0.0028745"/>
      <inertia ixx="1.6e-07" ixy="0" ixz="-1e-08" iyy="2.1e-07" iyz="2e-08" izz="7e-08"/>
    </inertial>
    <visual>
      <origin rpy="0 0 0" xyz="0 0 0"/>
      <geometry>
        <mesh filename="package://hrp4_description/meshes/F3.dae"/>
      </geometry>
    </visual>
    <collision>
      <origin rpy="0 0 0" xyz="0 0 0"/>
      <geometry>
        <mesh filename="package://hrp4_description/meshes/F3.dae"/>
      </geometry>
    </collision>
  </link>
  <!--   Joints following below -->
  <joint name="waist" type="fixed">
    <parent link="base_link"/>
    <child link="body"/>
    <origin rpy="0 0 0" xyz="0 0 0"/>
  </joint>
  <joint name="R_HIP_Y" type="revolute">
    <origin rpy="0 0 0" xyz="0 -0.0875 0"/>
    <axis xyz="0 0 1"/>
    <parent link="body"/>
    <child link="R_HIP_Y_LINK"/>
    <limit effort="41.65" lower="-0.78539815" upper="0.78539815" velocity="5.0789081233"/>
  </joint>
  <joint name="R_HIP_R" type="revolute">
    <origin rpy="0 0 0" xyz="0 0 0"/>
    <axis xyz="1 0 0"/>
    <parent link="R_HIP_Y_LINK"/>
    <child link="R_HIP_R_LINK"/>
    <limit effort="224.91" lower="-0.436332305555556" upper="0.436332305555556" velocity="2.82743338823"/>
  </joint>
  <joint name="R_HIP_P" type="revolute">
    <origin rpy="0 0 0" xyz="0 0 0"/>
    <axis xyz="0 1 0"/>
    <parent link="R_HIP_R_LINK"/>
    <child link="R_HIP_P_LINK"/>
    <limit effort="114.95" lower="-1.34390350111111" upper="0.418879013333333" velocity="5.51873109481"/>
  </joint>
  <joint name="R_KNEE_P" type="revolute">
    <origin rpy="0 0 0" xyz="0 0.01905 -0.358"/>
    <axis xyz="0 1 0"/>
    <parent link="R_HIP_P_LINK"/>
    <child link="R_KNEE_P_LINK"/>
    <limit effort="242.76" lower="0.0122173045555556" upper="2.17642554011111" velocity="2.61799387799"/>
  </joint>
  <joint name="R_ANKLE_P" type="revolute">
    <origin rpy="0 0 0" xyz="0 0 -0.341150992963526"/>
    <axis xyz="0 1 0"/>
    <parent link="R_KNEE_P_LINK"/>
    <child link="R_ANKLE_P_LINK"/>
    <limit effort="163.41" lower="-0.989601669" upper="0.267035371" velocity="4.71238898038"/>
  </joint>
  <joint name="R_ANKLE_R" type="revolute">
    <origin rpy="0 0 0" xyz="0 0 0"/>
    <axis xyz="1 0 0"/>
    <parent link="R_ANKLE_P_LINK"/>
    <child link="R_ANKLE_R_LINK"/>
    <limit effort="42.07" lower="-0.593411935555556" upper="0.593411935555556" velocity="5.02654824574"/>
  </joint>
  <joint name="L_HIP_Y" type="revolute">
    <origin rpy="0 0 0" xyz="0 0.0875 0"/>
    <axis xyz="0 0 1"/>
    <parent link="body"/>
    <child link="L_HIP_Y_LINK"/>
    <limit effort="41.65" lower="-0.78539815" upper="0.78539815" velocity="5.0789081233"/>
  </joint>
  <joint name="L_HIP_R" type="revolute">
    <origin rpy="0 0 0" xyz="0 0 0"/>
    <axis xyz="1 0 0"/>
    <parent link="L_HIP_Y_LINK"/>
    <child link="L_HIP_R_LINK"/>
    <limit effort="224.91" lower="-0.436332305555556" upper="0.436332305555556" velocity="2.82743338823"/>
  </joint>
  <joint name="L_HIP_P" type="revolute">
    <origin rpy="0 0 0" xyz="0 0 0"/>
    <axis xyz="0 1 0"/>
    <parent link="L_HIP_R_LINK"/>
    <child link="L_HIP_P_LINK"/>
    <limit effort="114.95" lower="-1.34390350111111" upper="0.418879013333333" velocity="5.51873109481"/>
  </joint>
  <joint name="L_KNEE_P" type="revolute">
    <origin rpy="0 0 0" xyz="0 -0.01905 -0.358"/>
    <axis xyz="0 1 0"/>
    <parent link="L_HIP_P_LINK"/>
    <child link="L_KNEE_P_LINK"/>
    <limit effort="242.76" lower="0.0122173045555556" upper="2.17642554011111" velocity="2.61799387799"/>
  </joint>
  <joint name="L_ANKLE_P" type="revolute">
    <origin rpy="0 0 0" xyz="0 0 -0.341150992963526"/>
    <axis xyz="0 1 0"/>
    <parent link="L_KNEE_P_LINK"/>
    <child link="L_ANKLE_P_LINK"/>
    <limit effort="163.41" lower="-0.989601669" upper="0.267035371" velocity="4.71238898038"/>
  </joint>
  <joint name="L_ANKLE_R" type="revolute">
    <origin rpy="0 0 0" xyz="0 0 0"/>
    <axis xyz="1 0 0"/>
    <parent link="L_ANKLE_P_LINK"/>
    <child link="L_ANKLE_R_LINK"/>
    <limit effort="42.07" lower="-0.593411935555556" upper="0.593411935555556" velocity="5.02654824574"/>
  </joint>
  <joint name="CHEST_P" type="revolute">
    <origin rpy="0 0 0" xyz="0.01 0 0.197"/>
    <axis xyz="0 1 0"/>
    <parent link="body"/>
    <child link="CHEST_P_LINK"/>
    <limit effort="114.95" lower="-0.209439506666667" upper="0.523598766666667" velocity="5.51873109481"/>
  </joint>
  <joint name="CHEST_Y" type="revolute">
    <origin rpy="0 0 0" xyz="0 0 0"/>
    <axis xyz="0 0 1"/>
    <parent link="CHEST_P_LINK"/>
    <child link="torso"/>
    <limit effort="107.1" lower="-0.610865227777778" upper="0.610865227777778" velocity="5.92713813977"/>
  </joint>
  <joint name="NECK_Y" type="revolute">
    <origin rpy="0 0 0" xyz="-0.04 0 0.434"/>
    <axis xyz="0 0 1"/>
    <parent link="torso"/>
    <child link="NECK_Y_LINK"/>
    <limit effort="12.4" lower="-1.22173045555556" upper="1.22173045555556" velocity="4.1154863762"/>
  </joint>
  <joint name="NECK_P" type="revolute">
    <origin rpy="0 0 0" xyz="0 0 0"/>
    <axis xyz="0 1 0"/>
    <parent link="NECK_Y_LINK"/>
    <child link="NECK_P_LINK"/>
    <limit effort="12.4" lower="-0.523598766666667" upper="0.436332305555556" velocity="4.1154863762"/>
  </joint>
  <joint name="R_SHOULDER_P" type="revolute">
    <origin rpy="0 0 0" xyz="-0.04 -0.17 0.285"/>
    <axis xyz="0 1 0"/>
    <parent link="torso"/>
    <child link="R_SHOULDER_P_LINK"/>
    <limit effort="214.2" lower="-2.56563395666667" upper="1.04719753333333" velocity="2.96356906989"/>
  </joint>
  <joint name="R_SHOULDER_R" type="revolute">
    <origin rpy="0 0 0" xyz="0 0 0"/>
    <axis xyz="1 0 0"/>
    <parent link="R_SHOULDER_P_LINK"/>
    <child link="R_SHOULDER_R_LINK"/>
    <limit effort="60.6" lower="-1.55334300777778" upper="0.174532922222222" velocity="2.05250720035"/>
  </joint>
  <joint name="R_SHOULDER_Y" type="revolute">
    <origin rpy="0 0 0" xyz="0 0 0"/>
    <axis xyz="0 0 1"/>
    <parent link="R_SHOULDER_R_LINK"/>
    <child link="R_SHOULDER_Y_LINK"/>
    <limit effort="63.82" lower="-1.60570288444444" upper="1.60570288444444" velocity="2.94262511886"/>
  </joint>
  <joint name="R_ELBOW_P" type="revolute">
    <origin rpy="0 0 0" xyz="0 0 -0.283"/>
    <axis xyz="0 1 0"/>
    <parent link="R_SHOULDER_Y_LINK"/>
    <child link="R_ELBOW_P_LINK"/>
    <limit effort="46.99" lower="-2.14675494333333" upper="0.0349065844444444" velocity="2.64940980453"/>
  </joint>
  <joint name="R_WRIST_Y" type="revolute">
    <origin rpy="0 0 0" xyz="0 0 0"/>
    <axis xyz="0 0 1"/>
    <parent link="R_ELBOW_P_LINK"/>
    <child link="R_WRIST_Y_LINK"/>
    <limit effort="12.4" lower="-1.60570288444444" upper="1.60570288444444" velocity="4.1154863762"/>
  </joint>
  <joint name="R_WRIST_P" type="revolute">
    <origin rpy="0 0 0" xyz="0 0 -0.234"/>
    <axis xyz="0 1 0"/>
    <parent link="R_WRIST_Y_LINK"/>
    <child link="R_WRIST_P_LINK"/>
    <limit effort="12.4" lower="-0.715584981111111" upper="0.715584981111111" velocity="4.1154863762"/>
  </joint>
  <joint name="R_WRIST_R" type="revolute">
    <origin rpy="0 0 0" xyz="0 0 0"/>
    <axis xyz="1 0 0"/>
    <parent link="R_WRIST_P_LINK"/>
    <child link="r_wrist"/>
    <limit effort="12.4" lower="-1.60570288444444" upper="1.60570288444444" velocity="4.1154863762"/>
  </joint>
  <joint name="R_HAND_J0" type="revolute">
    <origin rpy="0 0.4118977034707 0" xyz="0.03419 0 -0.039"/>
    <axis xyz="0 0 1"/>
    <parent link="r_wrist"/>
    <child link="R_HAND_J0_LINK"/>
    <limit effort="1.06" lower="0" upper="1.5707963" velocity="16.9541283539"/>
  </joint>
  <joint name="R_HAND_J1" type="revolute">
    <origin rpy="0 0 0" xyz="0 0 -0.111"/>
    <axis xyz="1 0 0"/>
    <parent link="r_wrist"/>
    <child link="R_HAND_J1_LINK"/>
    <limit effort="1.59" lower="-0.174532922222222" upper="1.5707963" velocity="11.2992615774"/>
  </joint>
  <joint name="L_SHOULDER_P" type="revolute">
    <origin rpy="0 0 0" xyz="-0.04 0.17 0.285"/>
    <axis xyz="0 1 0"/>
    <parent link="torso"/>
    <child link="L_SHOULDER_P_LINK"/>
    <limit effort="214.2" lower="-2.56563395666667" upper="1.04719753333333" velocity="2.96356906989"/>
  </joint>
  <joint name="L_SHOULDER_R" type="revolute">
    <origin rpy="0 0 0" xyz="0 0 0"/>
    <axis xyz="1 0 0"/>
    <parent link="L_SHOULDER_P_LINK"/>
    <child link="L_SHOULDER_R_LINK"/>
    <limit effort="60.6" lower="-0.174532922222222" upper="1.55334300777778" velocity="2.05250720035"/>
  </joint>
  <joint name="L_SHOULDER_Y" type="revolute">
    <origin rpy="0 0 0" xyz="0 0 0"/>
    <axis xyz="0 0 1"/>
    <parent link="L_SHOULDER_R_LINK"/>
    <child link="L_SHOULDER_Y_LINK"/>
    <limit effort="63.82" lower="-1.60570288444444" upper="1.60570288444444" velocity="2.94262511886"/>
  </joint>
  <joint name="L_ELBOW_P" type="revolute">
    <origin rpy="0 0 0" xyz="0 0 -0.283"/>
    <axis xyz="0 1 0"/>
    <parent link="L_SHOULDER_Y_LINK"/>
    <child link="L_ELBOW_P_LINK"/>
    <limit effort="46.99" lower="-2.14675494333333" upper="0.0349065844444444" velocity="2.64940980453"/>
  </joint>
  <joint name="L_WRIST_Y" type="revolute">
    <origin rpy="0 0 0" xyz="0 0 0"/>
    <axis xyz="0 0 1"/>
    <parent link="L_ELBOW_P_LINK"/>
    <child link="L_WRIST_Y_LINK"/>
    <limit effort="12.4" lower="-1.60570288444444" upper="1.60570288444444" velocity="4.1154863762"/>
  </joint>
  <joint name="L_WRIST_P" type="revolute">
    <origin rpy="0 0 0" xyz="0 0 -0.234"/>
    <axis xyz="0 1 0"/>
    <parent link="L_WRIST_Y_LINK"/>
    <child link="L_WRIST_P_LINK"/>
    <limit effort="12.4" lower="-0.715584981111111" upper="0.715584981111111" velocity="4.1154863762"/>
  </joint>
  <joint name="L_WRIST_R" type="revolute">
    <origin rpy="0 0 0" xyz="0 0 0"/>
    <axis xyz="1 0 0"/>
    <parent link="L_WRIST_P_LINK"/>
    <child link="l_wrist"/>
    <limit effort="12.4" lower="-1.60570288444444" upper="1.60570288444444" velocity="4.1154863762"/>
  </joint>
  <joint name="L_HAND_J0" type="revolute">
    <origin rpy="0 0.4118977034707 0" xyz="0.03419 0 -0.039"/>
    <axis xyz="0 0 1"/>
    <parent link="l_wrist"/>
    <child link="L_HAND_J0_LINK"/>
    <limit effort="1.06" lower="-1.5707963" upper="0" velocity="16.9541283539"/>
  </joint>
  <joint name="L_HAND_J1" type="revolute">
    <origin rpy="0 0 0" xyz="0 0 -0.111"/>
    <axis xyz="1 0 0"/>
    <parent link="l_wrist"/>
    <child link="L_HAND_J1_LINK"/>
    <limit effort="1.59" lower="-1.5707963" upper="0.174532922222222" velocity="11.2992615774"/>
  </joint>
  <joint name="l_sole_joint" type="fixed">
    <parent link="l_ankle"/>
    <child link="l_sole"/>
    <origin rpy="0 0 0" xyz="0 0 -0.093"/>
  </joint>
  <joint name="r_sole_joint" type="fixed">
    <parent link="r_ankle"/>
    <child link="r_sole"/>
    <origin rpy="0 0 0" xyz="0 0 -0.093"/>
  </joint>
  <!-- Sensors: accelerometer and gyro -->
  <joint name="AccelerometerJoint" type="fixed">
    <parent link="body"/>
    <child link="Accelerometer"/>
    <origin rpy="0 0 0" xyz="-0.0325 0 0.1095"/>
  </joint>
  <link name="Accelerometer"/>
  <joint name="GyroJoint" type="fixed">
    <parent link="body"/>
    <child link="Gyro"/>
    <origin rpy="0 0 0" xyz="-0.0325 0 0.1095"/>
  </joint>
  <link name="Gyro"/>
  <!-- Sensors: force sensors -->
  <joint name="RightFootForceSensorJoint" type="fixed">
    <parent link="R_ANKLE_R_LINK"/>
    <child link="RightFootForceSensor"/>
    <origin rpy="0 0 0" xyz="0 0 -0.093"/>
  </joint>
  <link name="RightFootForceSensor"/>
  <joint name="LeftFootForceSensorJoint" type="fixed">
    <parent link="L_ANKLE_R_LINK"/>
    <child link="LeftFootForceSensor"/>
    <origin rpy="0 0 0" xyz="0 0 -0.093"/>
    <!-- FIXME: missing rotation -->
  </joint>
  <link name="LeftFootForceSensor"/>
  <joint name="LeftHandForceSensorJoint" type="fixed">
    <parent link="l_wrist"/>
    <child link="LeftHandForceSensor"/>
    <origin rpy="3.14159 0 -1.57079" xyz="0 0 -0.04435"/>
  </joint>
  <link name="LeftHandForceSensor"/>
  <joint name="RightHandForceSensorJoint" type="fixed">
    <parent link="r_wrist"/>
    <child link="RightHandForceSensor"/>
    <origin rpy="3.14159 0 -1.57079" xyz="0 0 -0.04435"/>
  </joint>
  <link name="RightHandForceSensor"/>
  <!--
     Humanoid standard frames

     This section defines anchor joint renaming to respect the
     REP 120 (http://www.ros.org/reps/rep-0120.html):
     Coordinate Frames for Humanoids Robots
    -->
  <!-- Humanoid standard frames: wrists and hands -->
  <joint name="l_gripper_joint" type="fixed">
    <parent link="l_wrist"/>
    <child link="l_gripper"/>
    <origin rpy="3.14159 1.57079  0" xyz="0 -0.04 -0.09"/>
  </joint>
  <link name="l_gripper"/>
  <joint name="r_gripper_sensor" type="fixed">
    <parent link="r_wrist"/>
    <child link="r_gripper_sensor"/>
    <origin rpy="-0.00186 0.00065 1.56968" xyz="0 0.0 -0.045"/>
  </joint>
  <link name="r_gripper_sensor"/>
  <joint name="r_gripper_joint" type="fixed">
    <parent link="r_wrist"/>
    <child link="r_gripper"/>
    <origin rpy="0 1.57079   0" xyz="0 0.04 -0.09"/>
  </joint>
  <link name="r_gripper"/>
  <!-- Humanoid standard frame: gaze TODO -->
  <joint name="gaze_joint" type="fixed">
    <parent link="NECK_P_LINK"/>
    <child link="gaze"/>
    <origin rpy="-1.57079632679 0 -1.57079632679" xyz="0.1 0 0"/>
  </joint>
  <link name="gaze"/>
  <joint name="R_F22" type="fixed">
    <origin rpy="0 -0 3.1415926535" xyz="0.0253 0 -0.045"/>
    <axis xyz="1 0 0"/>
    <parent link="R_HAND_J1_LINK"/>
    <child link="R_F22_LINK"/>
  </joint>
  <joint name="R_F23" type="fixed">
    <origin rpy="0 0 0" xyz="0 0 -0.024"/>
    <axis xyz="1 0 0"/>
    <parent link="R_F22_LINK"/>
    <child link="R_F23_LINK"/>
  </joint>
  <joint name="R_F32" type="fixed">
    <origin rpy="0 -0 3.1415926535" xyz="0.0051 0 -0.045"/>
    <axis xyz="1 0 0"/>
    <parent link="R_HAND_J1_LINK"/>
    <child link="R_F32_LINK"/>
  </joint>
  <joint name="R_F33" type="fixed">
    <origin rpy="0 0 0" xyz="0 0 -0.024"/>
    <axis xyz="1 0 0"/>
    <parent link="R_F32_LINK"/>
    <child link="R_F33_LINK"/>
  </joint>
  <joint name="R_F42" type="fixed">
    <origin rpy="0 -0 3.1415926535" xyz="-0.0151 0 -0.045"/>
    <axis xyz="1 0 0"/>
    <parent link="R_HAND_J1_LINK"/>
    <child link="R_F42_LINK"/>
  </joint>
  <joint name="R_F43" type="fixed">
    <origin rpy="0 0 0" xyz="0 0 -0.024"/>
    <axis xyz="1 0 0"/>
    <parent link="R_F42_LINK"/>
    <child link="R_F43_LINK"/>
  </joint>
  <joint name="R_F52" type="fixed">
    <origin rpy="0 -0 3.1415926535" xyz="-0.0353 0 -0.045"/>
    <axis xyz="1 0 0"/>
    <parent link="R_HAND_J1_LINK"/>
    <child link="R_F52_LINK"/>
  </joint>
  <joint name="R_F53" type="fixed">
    <origin rpy="0 0 0" xyz="0 0 -0.024"/>
    <axis xyz="1 0 0"/>
    <parent link="R_F52_LINK"/>
    <child link="R_F53_LINK"/>
  </joint>
  <joint name="L_F22" type="fixed">
    <origin rpy="0 0 0" xyz="0.0253 0 -0.045"/>
    <axis xyz="1 0 0"/>
    <parent link="L_HAND_J1_LINK"/>
    <child link="L_F22_LINK"/>
  </joint>
  <joint name="L_F23" type="fixed">
    <origin rpy="0 0 0" xyz="0 0 -0.024"/>
    <axis xyz="1 0 0"/>
    <parent link="L_F22_LINK"/>
    <child link="L_F23_LINK"/>
  </joint>
  <joint name="L_F32" type="fixed">
    <origin rpy="0 0 0" xyz="0.0051 0 -0.045"/>
    <axis xyz="1 0 0"/>
    <parent link="L_HAND_J1_LINK"/>
    <child link="L_F32_LINK"/>
  </joint>
  <joint name="L_F33" type="fixed">
    <origin rpy="0 0 0" xyz="0 0 -0.024"/>
    <axis xyz="1 0 0"/>
    <parent link="L_F32_LINK"/>
    <child link="L_F33_LINK"/>
  </joint>
  <joint name="L_F42" type="fixed">
    <origin rpy="0 0 0" xyz="-0.0151 0 -0.045"/>
    <axis xyz="1 0 0"/>
    <parent link="L_HAND_J1_LINK"/>
    <child link="L_F42_LINK"/>
  </joint>
  <joint name="L_F43" type="fixed">
    <origin rpy="0 0 0" xyz="0 0 -0.024"/>
    <axis xyz="1 0 0"/>
    <parent link="L_F42_LINK"/>
    <child link="L_F43_LINK"/>
  </joint>
  <joint name="L_F52" type="fixed">
    <origin rpy="0 0 0" xyz="-0.0353 0 -0.045"/>
    <axis xyz="1 0 0"/>
    <parent link="L_HAND_J1_LINK"/>
    <child link="L_F52_LINK"/>
  </joint>
  <joint name="L_F53" type="fixed">
    <origin rpy="0 0 0" xyz="0 0 -0.024"/>
    <axis xyz="1 0 0"/>
    <parent link="L_F52_LINK"/>
    <child link="L_F53_LINK"/>
  </joint>
  <!-- right foot -->
  <joint name="R_FOOT" type="fixed">
    <origin rpy="0 0 0" xyz="0 0 0"/>
    <axis xyz="0 0 0"/>
    <parent link="R_ANKLE_R_LINK"/>
    <child link="r_ankle"/>
  </joint>
  <link name="r_ankle">
    <inertial>
      <origin rpy="0 0 0" xyz="0.01130279 -0.01139641 -0.07868422"/>
      <mass value="0.57831553"/>
      <inertia ixx="0.00121526" ixy="8.51e-06" ixz="2.787e-05" iyy="0.00254705" iyz="-2.1e-06" izz="0.00362666"/>
    </inertial>
    <visual>
      <origin rpy="0 0 0" xyz="0 0 0"/>
      <geometry>
        <mesh filename="package://hrp4_description/meshes/R_FOOT.dae"/>
      </geometry>
    </visual>
    <collision>
      <origin rpy="0 0 0" xyz="0 0 0"/>
      <geometry>
        <mesh filename="package://hrp4_description/meshes/R_FOOT.dae"/>
      </geometry>
    </collision>
  </link>
  <!-- left foot -->
  <joint name="L_FOOT" type="fixed">
    <origin rpy="0 0 0" xyz="0 0 0"/>
    <axis xyz="0 0 0"/>
    <parent link="L_ANKLE_R_LINK"/>
    <child link="l_ankle"/>
  </joint>
  <link name="l_ankle">
    <inertial>
      <origin rpy="0 0 0" xyz="0.01130279 0.01139641 -0.07868422"/>
      <mass value="0.57831553"/>
      <inertia ixx="0.00121526" ixy="-8.51e-06" ixz="2.787e-05" iyy="0.00254705" iyz="2.1e-06" izz="0.00362666"/>
    </inertial>
    <visual>
      <origin rpy="0 0 0" xyz="0 0 0"/>
      <geometry>
        <mesh filename="package://hrp4_description/meshes/L_FOOT.dae"/>
      </geometry>
    </visual>
    <collision>
      <origin rpy="0 0 0" xyz="0 0 0"/>
      <geometry>
        <mesh filename="package://hrp4_description/meshes/L_FOOT.dae"/>
      </geometry>
    </collision>
  </link>
</robot>
